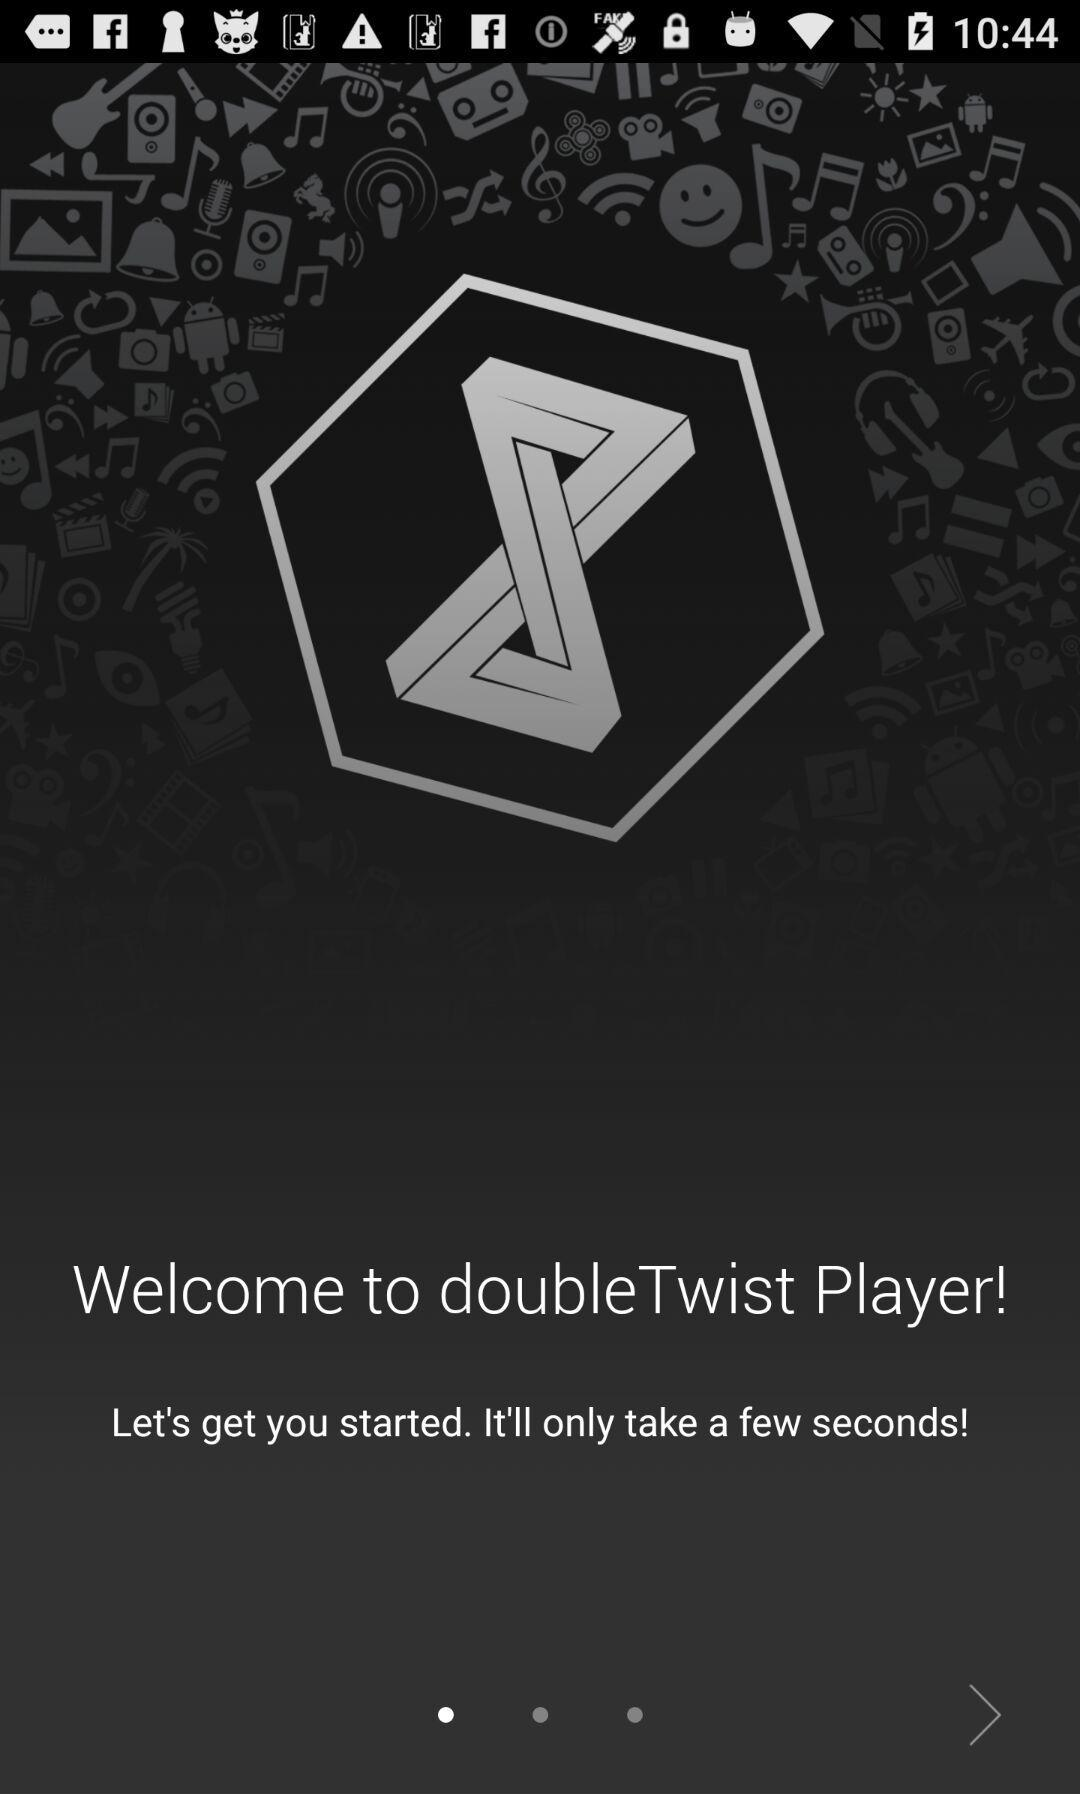Icon: (967, 1683, 1003, 1748)
Image: (1, 64, 1080, 1014)
PageIndicator: (437, 1706, 646, 1725)
Text: (73, 1260, 1006, 1331), (113, 1403, 969, 1448)
UpperTaskBar: (1, 1, 1080, 64)
